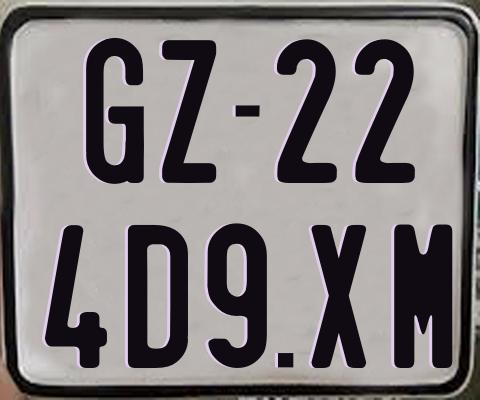2: (354, 37, 419, 183), (277, 37, 341, 184)
4: (45, 223, 109, 371)
9: (205, 223, 268, 369)
D: (128, 224, 194, 370)
G: (86, 37, 145, 184)
M: (392, 221, 456, 368)
X: (308, 223, 367, 367)
Z: (162, 39, 222, 182)
